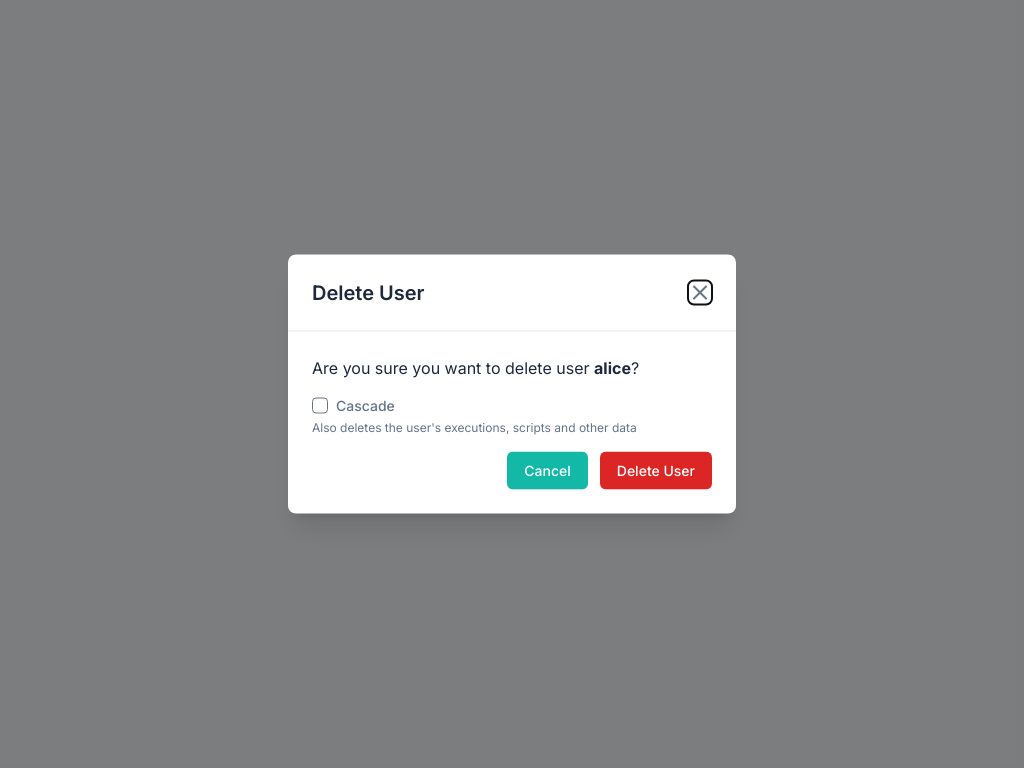
Test: DeleteUserModal › warns about deleting the data only once cascade is checked
Expected: the text "permanently delete all data" is not shown
Click the checkbox labelled "Cascade" at (320, 406), box [312,398,328,414]
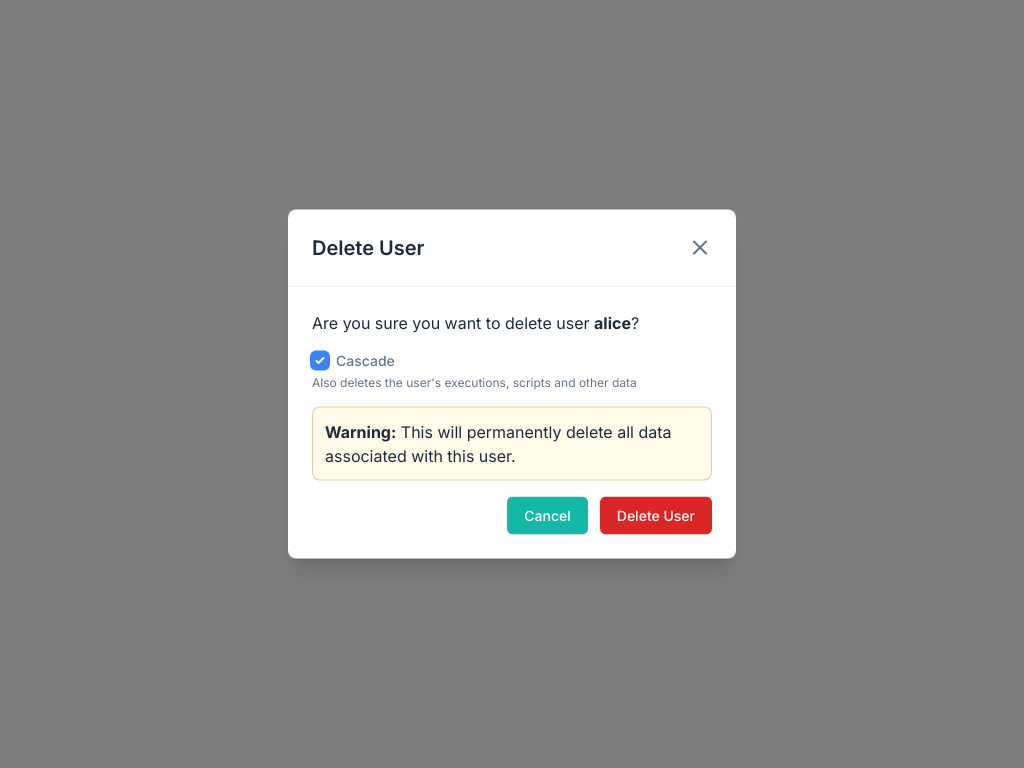
Expected: the text "permanently delete all data" is shown, [325,422,672,466]
